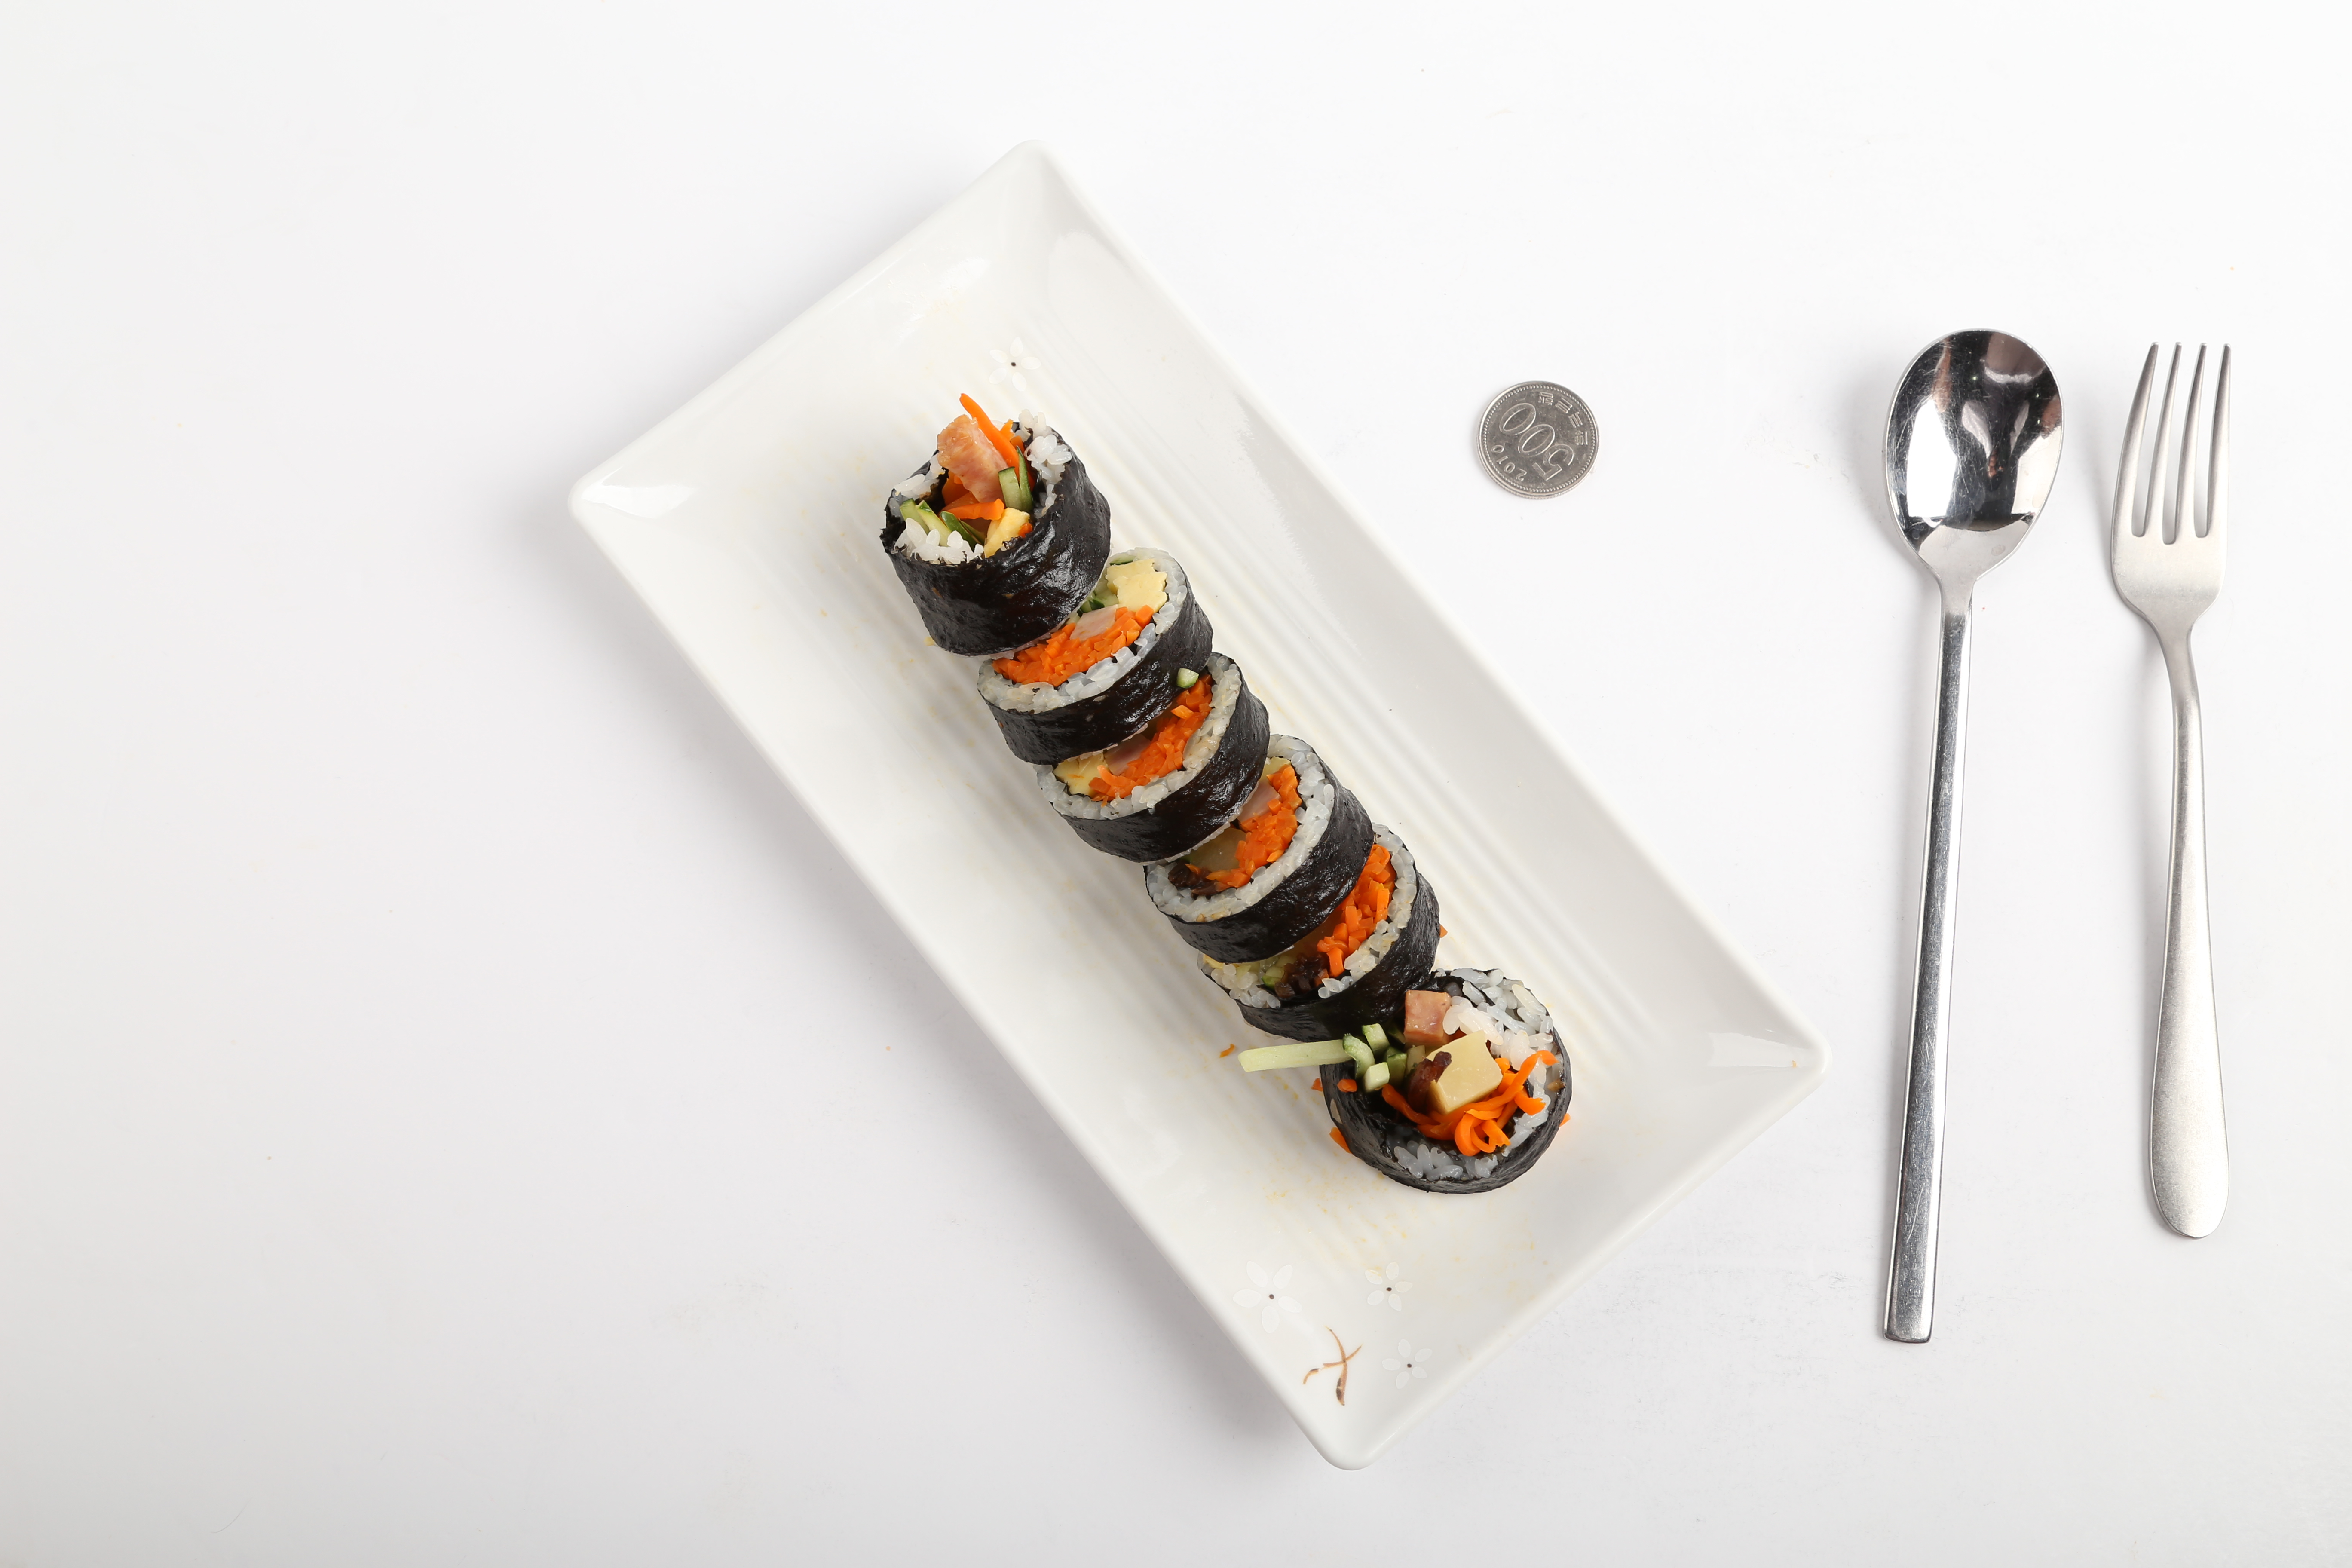dish: (572, 143, 1829, 1468)
ref_coin: (1468, 369, 1606, 506)
ref_fork: (2109, 332, 2235, 679)
ref_spoon: (1874, 324, 2068, 630)
김밥: (880, 416, 1573, 1197)
